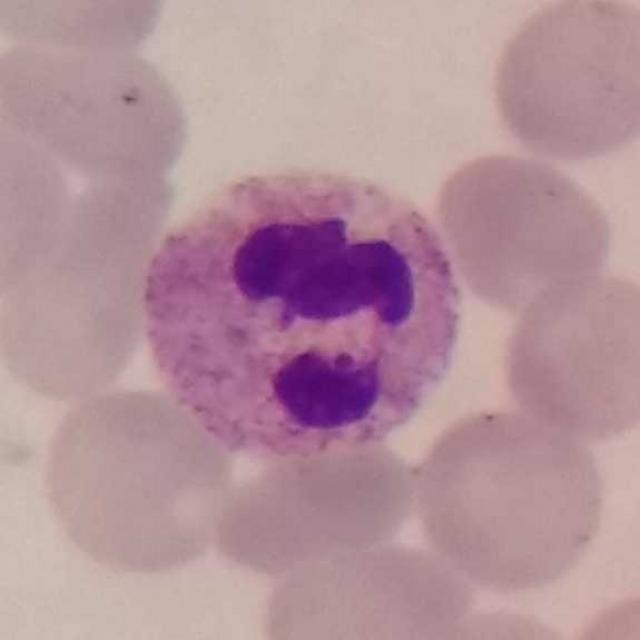Neutrophil: (121, 152, 483, 476)
RBC: (31, 382, 239, 581), (405, 402, 615, 598), (428, 144, 619, 312), (208, 428, 419, 576), (2, 36, 197, 182), (482, 0, 640, 167), (1, 224, 148, 400), (496, 267, 640, 444), (251, 528, 476, 640), (0, 118, 77, 302), (1, 0, 176, 58), (551, 0, 640, 98), (400, 601, 588, 640), (557, 582, 640, 640)
